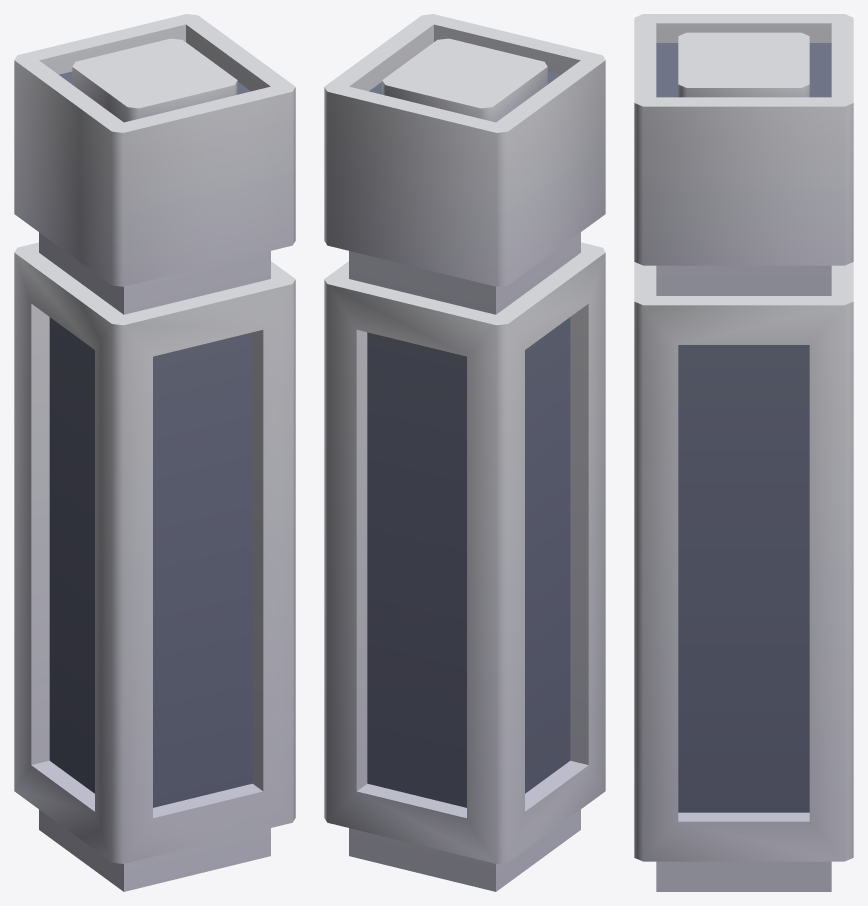
Rendered from low-detail-building-a.glb.
3 views of the same model, side by side, from view 1: azimuth 30°, elevation 25°; view 2: azimuth 150°, elevation 25°; view 3: azimuth 270°, elevation 25° (orthographic). The views are drawn at different scales.
Parts seen in each view (by area): view 1: low-detail-building-a; view 2: low-detail-building-a; view 3: low-detail-building-a.
Part boxes in pixels (x1=…): low-detail-building-a: x1=14, y1=14, x2=295, y2=891; low-detail-building-a: x1=324, y1=14, x2=605, y2=891; low-detail-building-a: x1=634, y1=14, x2=853, y2=891.
Size of the model in its own units: 0.5001 by 2 by 0.5001.
1 material, 1 textured.
